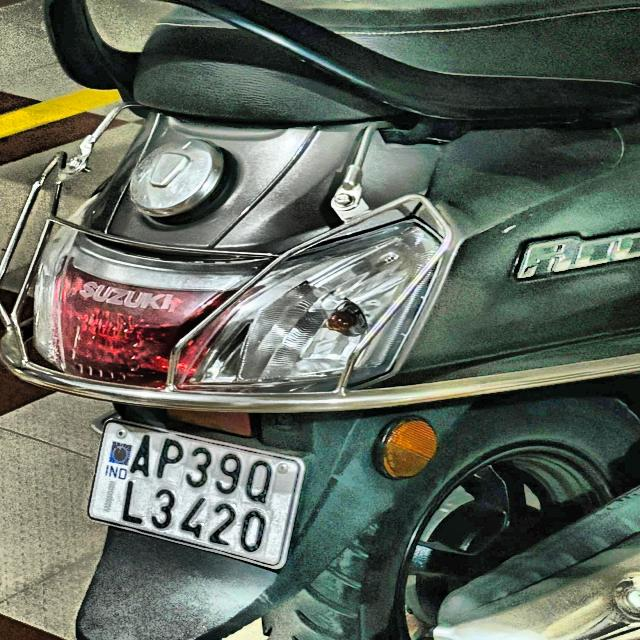license-plate: (93, 419, 299, 564)
